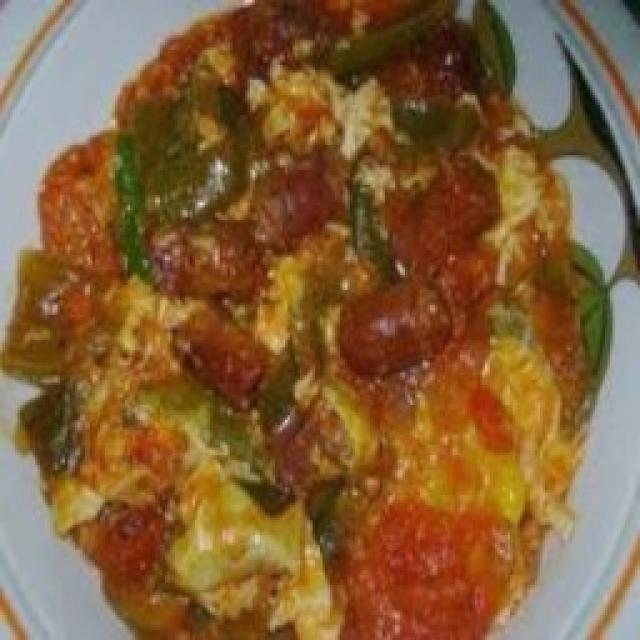Chakchouka: (1, 0, 609, 640)
